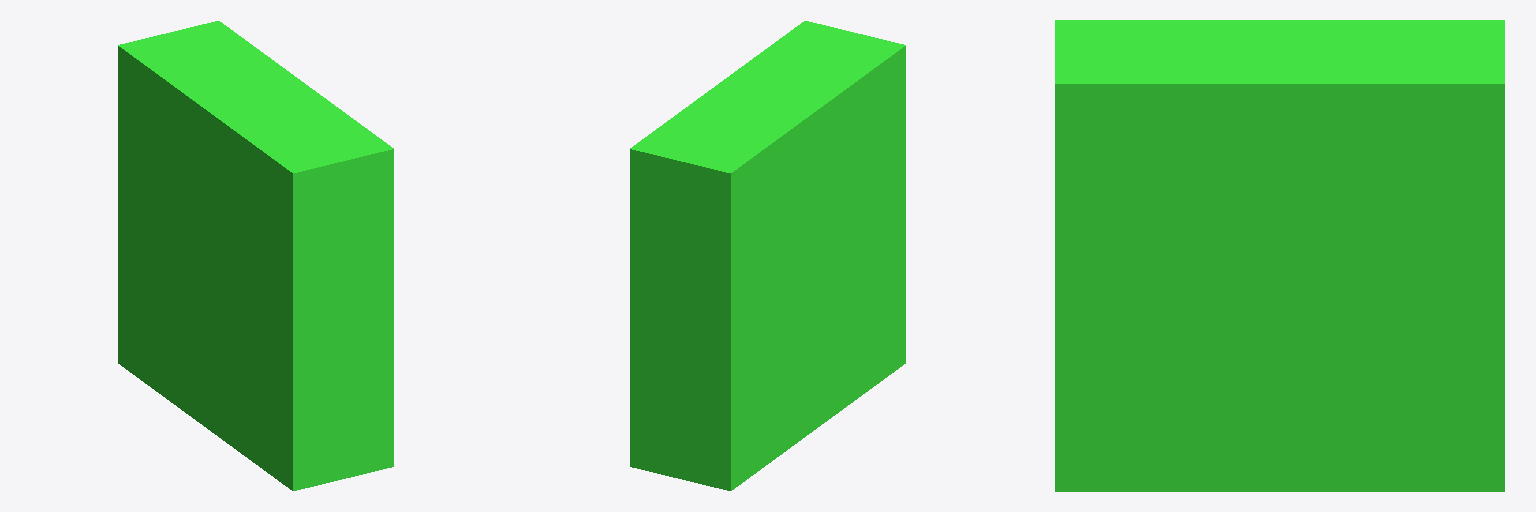
The robot description file, URDF, robot "CubeLifeSize_v2_60_20":
<robot name="CubeLifeSize_v2_60_20">
	<link name="object">
		<visual>
			<origin rpy="0.0 0.0 0.0" xyz="0.0 0.0 -0.6" />
			<geometry>
				<mesh filename="CubeLifeSize_v2_60_20/CubeLifeSize_v2_60_20.obj" scale="0.02 0.02 0.02" />
			</geometry>
			<material name="texture">
				<color rgba="0.3 1.0 0.3 1.0" />
			</material>
		</visual>
		<collision>
			<origin rpy="0.0 0.0 0.0" xyz="0.0 0.0 -0.6" />
			<geometry>
				<mesh filename="CubeLifeSize_v2_60_20/CubeLifeSize_v2_60_20_vhacd.obj" scale="0.02 0.02 0.02" />
			</geometry>
		</collision>
		<inertial>
			<mass value="0.020" />
			<inertia ixx="1.0" ixy="0.0" ixz="0.0" iyy="1.0" iyz="0.0" izz="1.0" />
		</inertial>
	</link>
</robot>

--- What the picture shows (computed from the rendered views, not written in the file) ---
The picture shows the robot from 3 angles, left to right: view 1: azimuth 30°, elevation 25°; view 2: azimuth 150°, elevation 25°; view 3: azimuth 270°, elevation 25°; orthographic projection.
Robot: CubeLifeSize_v2_60_20 — 1 links, 0 joints (none); root link object; default pose: every joint at zero.
Links seen in each view (by area): view 1: object; view 2: object; view 3: object.
Boxes of the visible links, box(x1,y1,x2,y2) form: object: box(118, 21, 393, 490); object: box(630, 21, 905, 490); object: box(1055, 20, 1504, 491).
Size in the robot's own frame: 0.4 by 1.2 by 1.2 metres.
1 mesh visuals loaded from 1 distinct referenced files (1 OBJ).